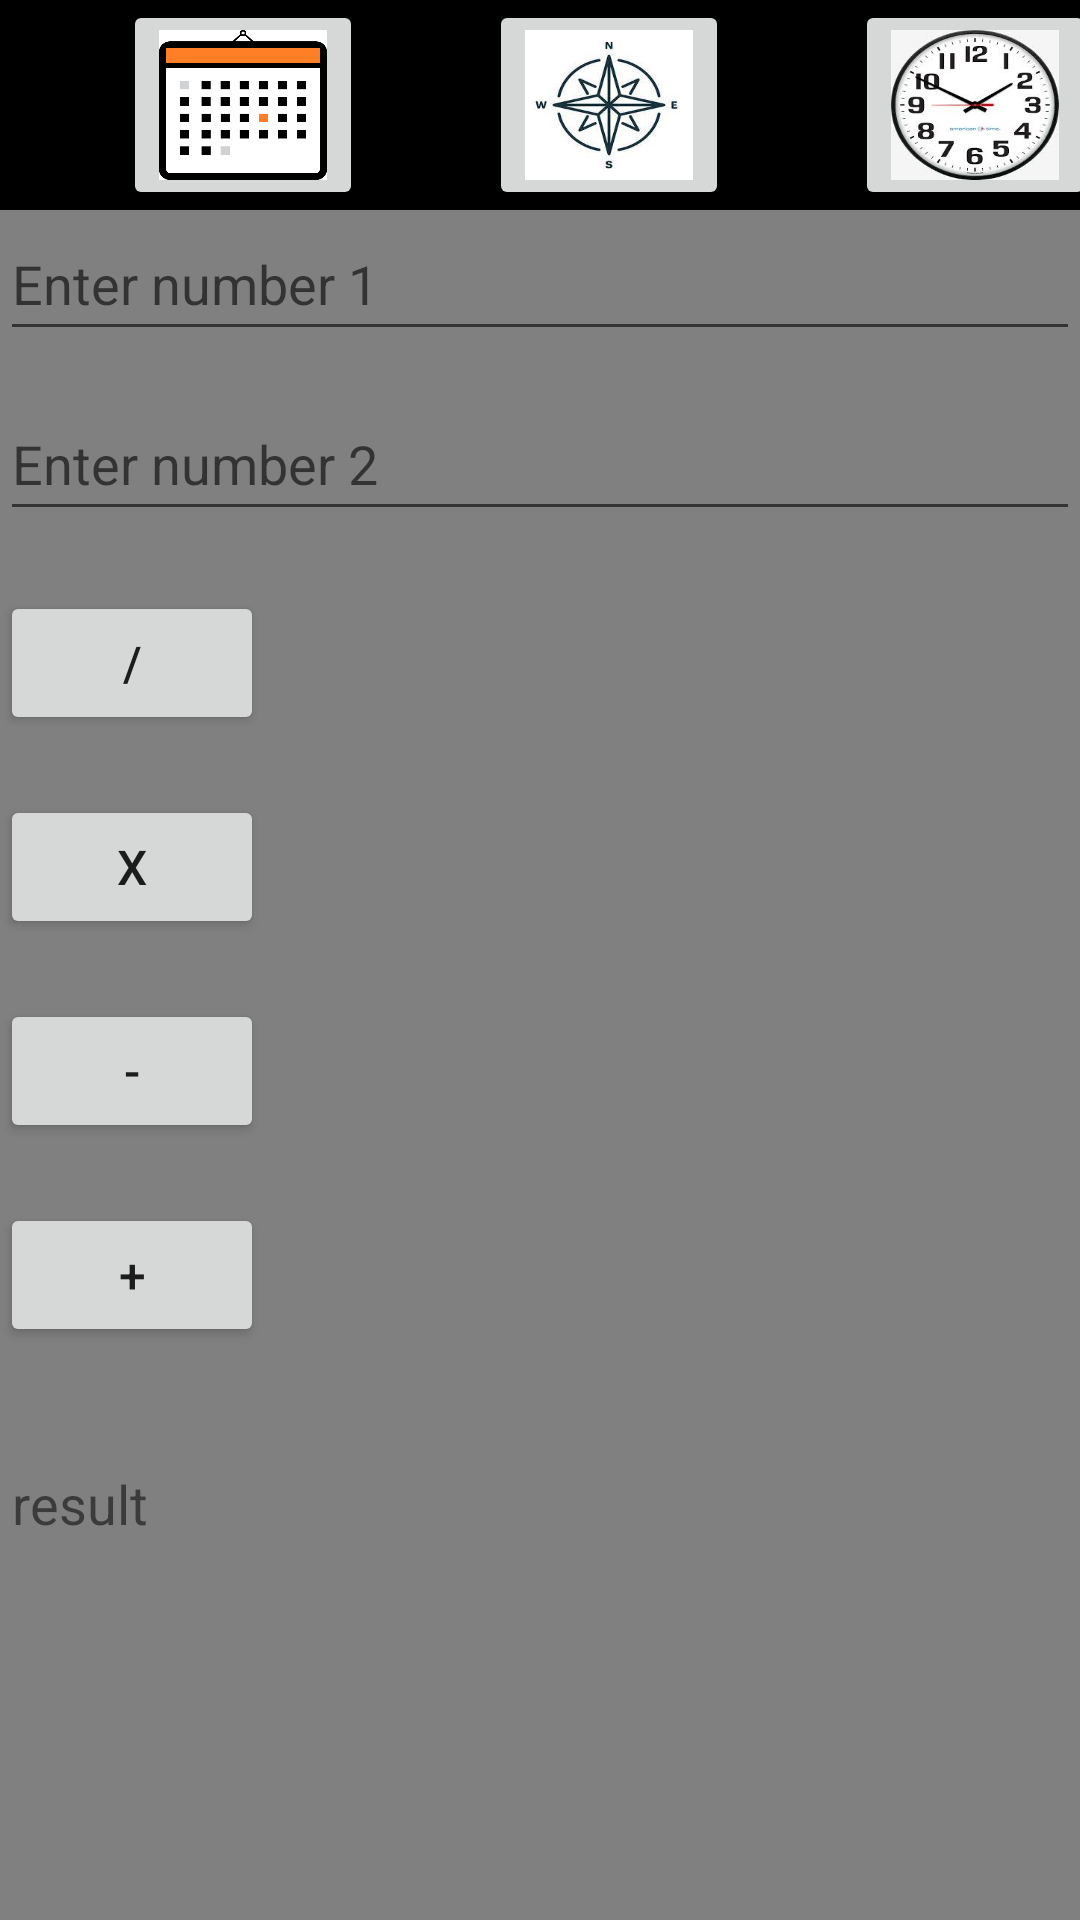

Screen size 1080px×1920px. Icon name, then its center in pixels as (x=x, y=y):
klok naar agenda: (x=243, y=105)
klok naar klok: (x=967, y=105)
klok naar kompas: (x=609, y=105)
